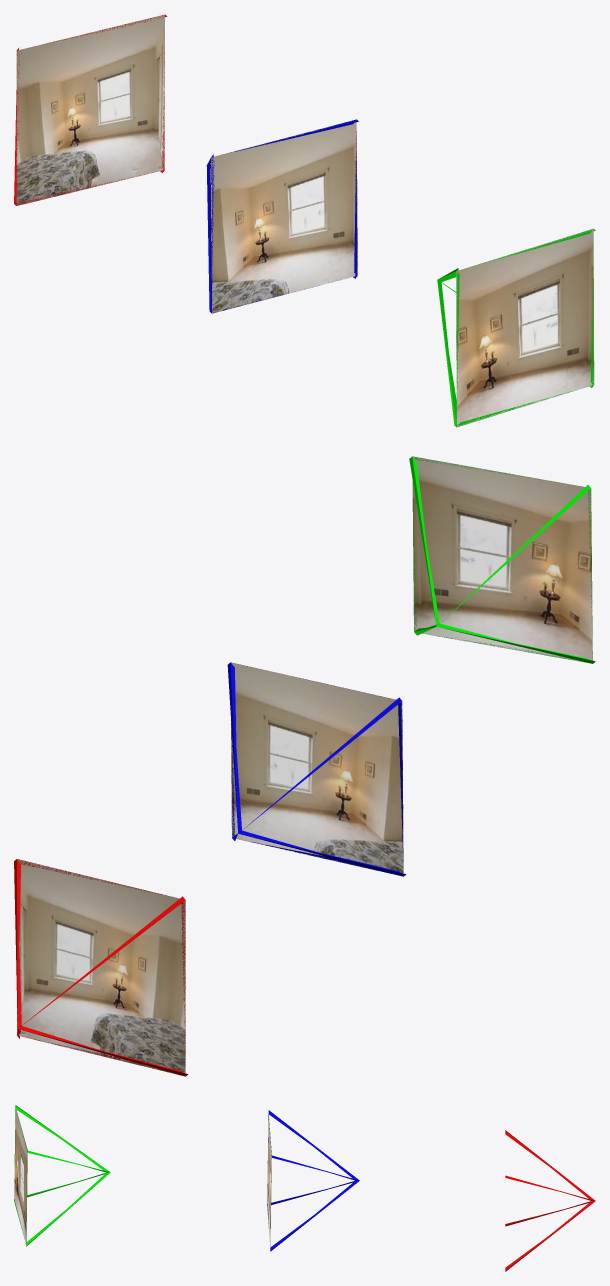
3 renders of one model, top to bottom at view 1: azimuth 30°, elevation 25°; view 2: azimuth 150°, elevation 25°; view 3: azimuth 270°, elevation 25°, orthographic. The views are drawn at different scales.
Visible parts, largest first — view 1: world; view 2: world; view 3: world.
Part boxes in pixels (x1,y1,x2,y2): world: [14, 14, 595, 427]; world: [14, 456, 595, 1076]; world: [14, 1105, 595, 1271].
Bounding box in the file's own units: 0.0653 × 0.0713 × 0.2758.
Materials: 3 (3 with a texture image).
